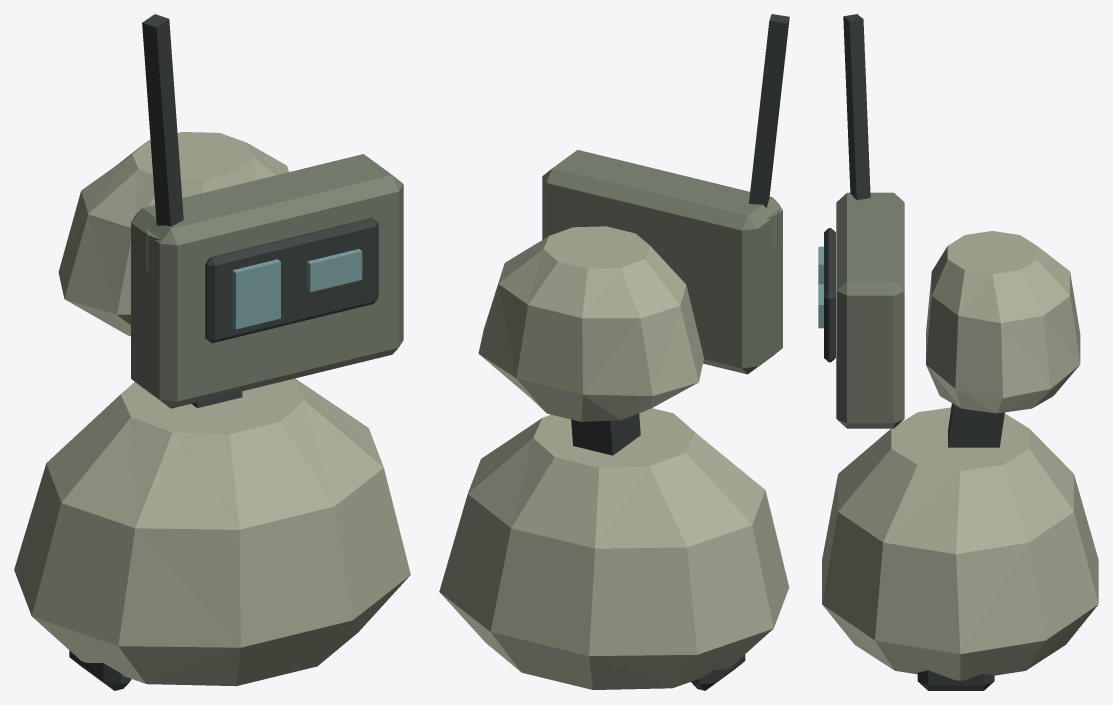
Rendered from lancer.obj.
3 renders of one model, left to right at view 1: azimuth 30°, elevation 25°; view 2: azimuth 150°, elevation 25°; view 3: azimuth 270°, elevation 25°, orthographic. The views are drawn at different scales.
Parts seen in each view (by area): view 1: lancer; view 2: lancer; view 3: lancer.
Boxes of the visible parts, x1,y1,x2,y2 form: lancer: (14, 14, 410, 690); lancer: (439, 14, 789, 690); lancer: (818, 14, 1098, 690).
Size of the model in its own units: 0.8 by 1.49 by 0.6554.
